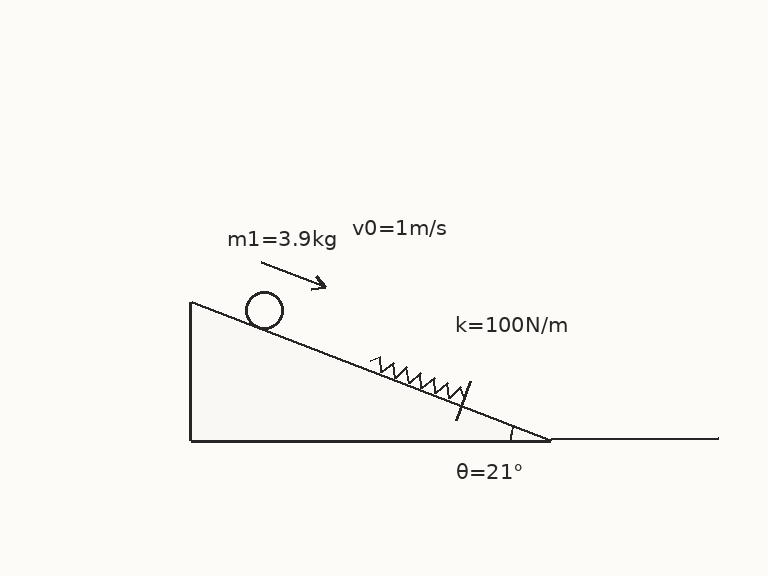ball: (243, 289, 285, 331)
ramp: (189, 300, 553, 442)
spring: (368, 355, 466, 400)
